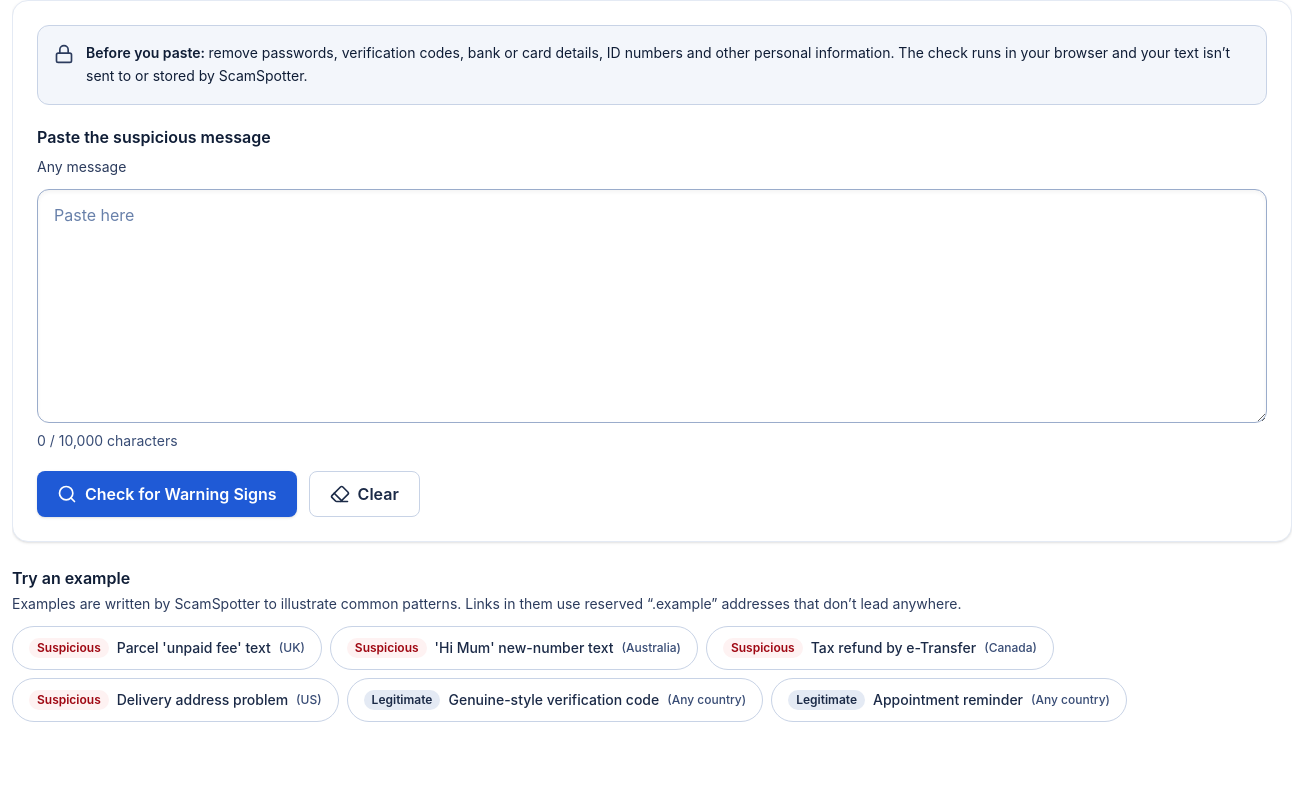
Test case: TextChecker › shows an error for empty input and keeps focus on the field
The image size is (1292, 800).
Step 1. Click the button "Check for Warning Signs" → (167, 494), box 37,470 -> 297,516
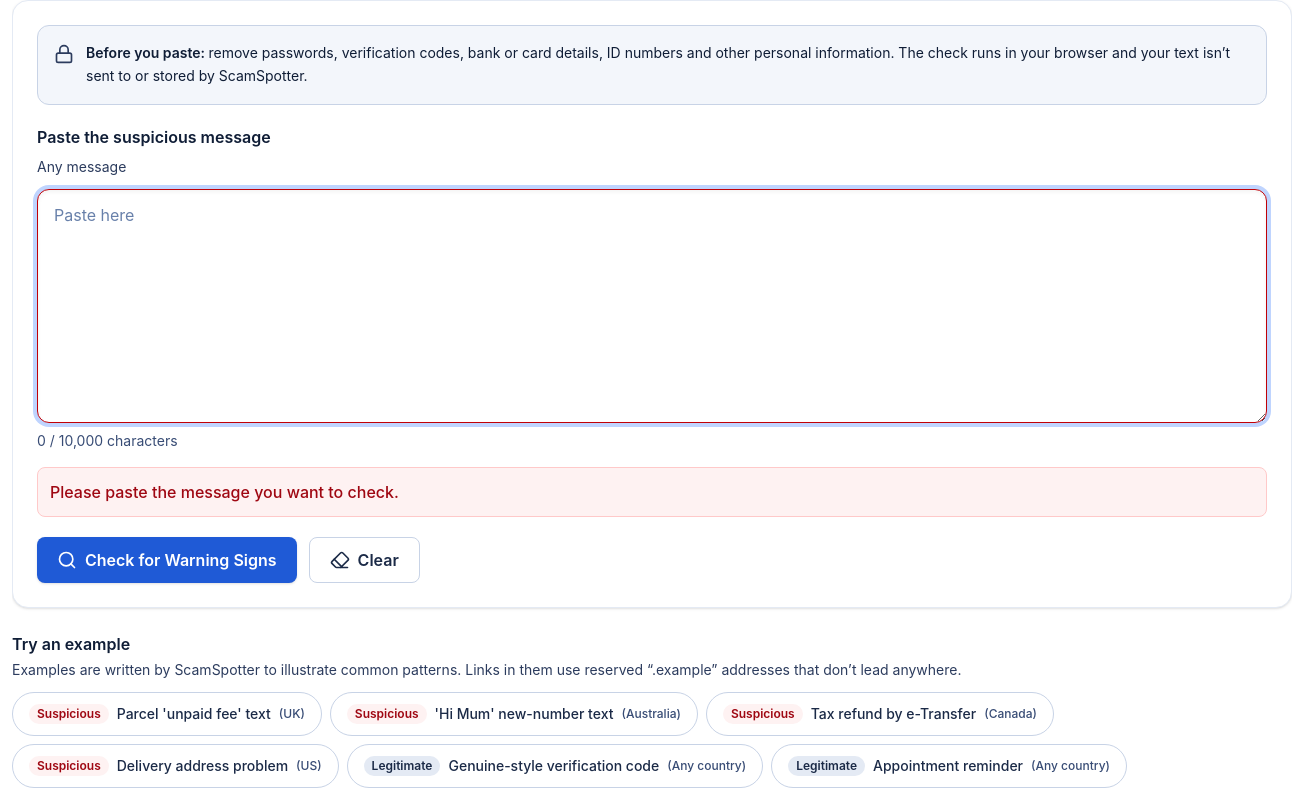
Check: the message shows "paste the message", box 50,482 -> 399,502
